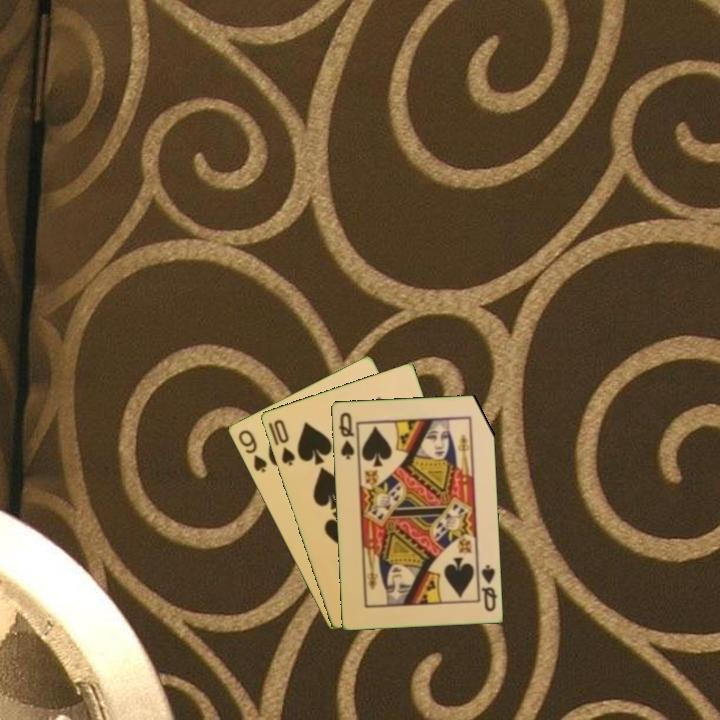10s: (270, 416, 297, 468)
9s: (234, 426, 270, 475)
Qs: (474, 561, 499, 614), (335, 408, 357, 462)
